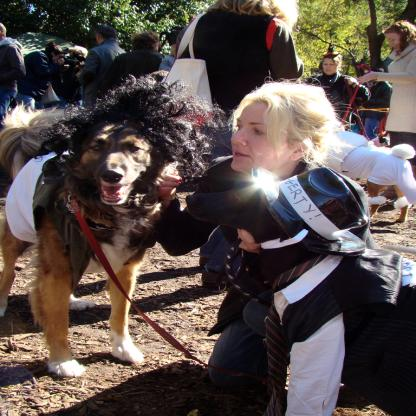Helmet: (252, 177, 372, 243)
